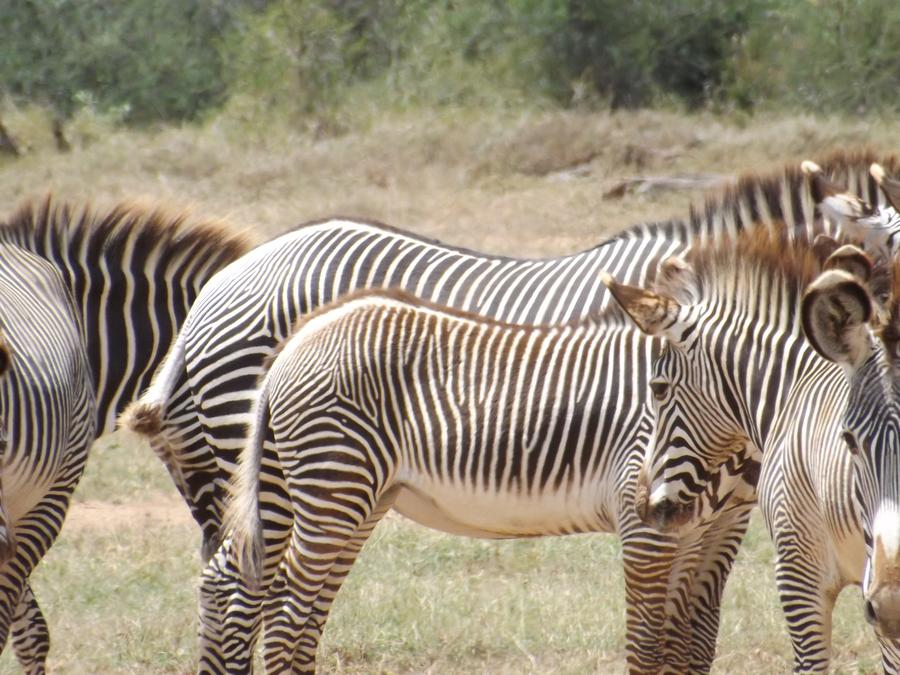zebra_grevys: (277, 303, 635, 483)
